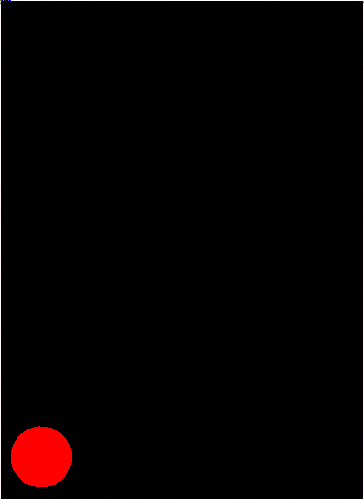stamp: (11, 426, 70, 486)
